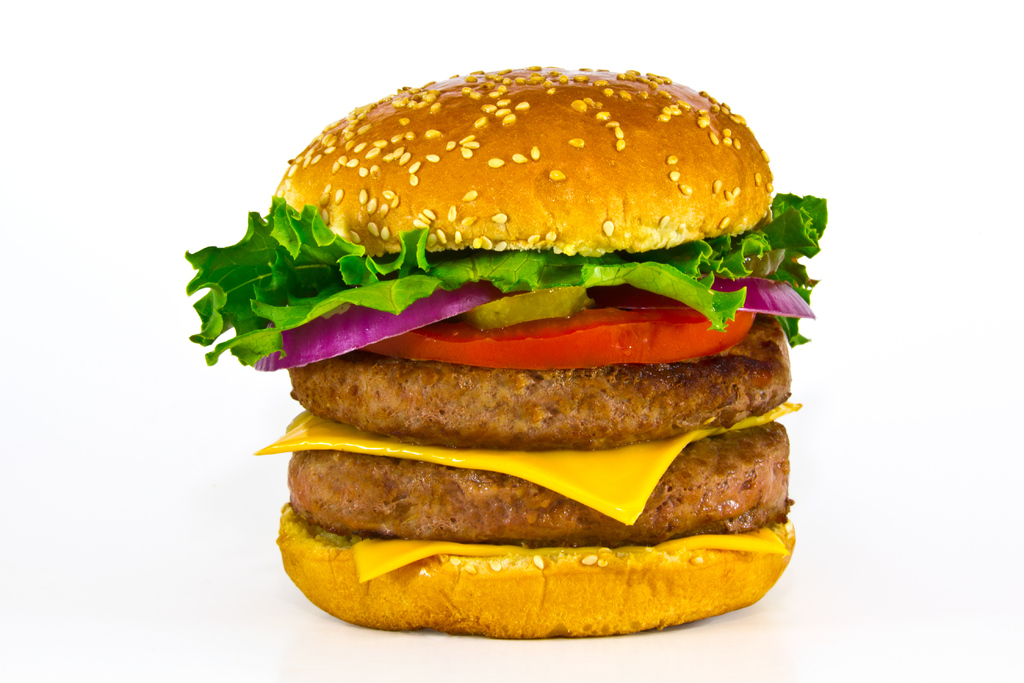Hamburger: (187, 62, 827, 640)
